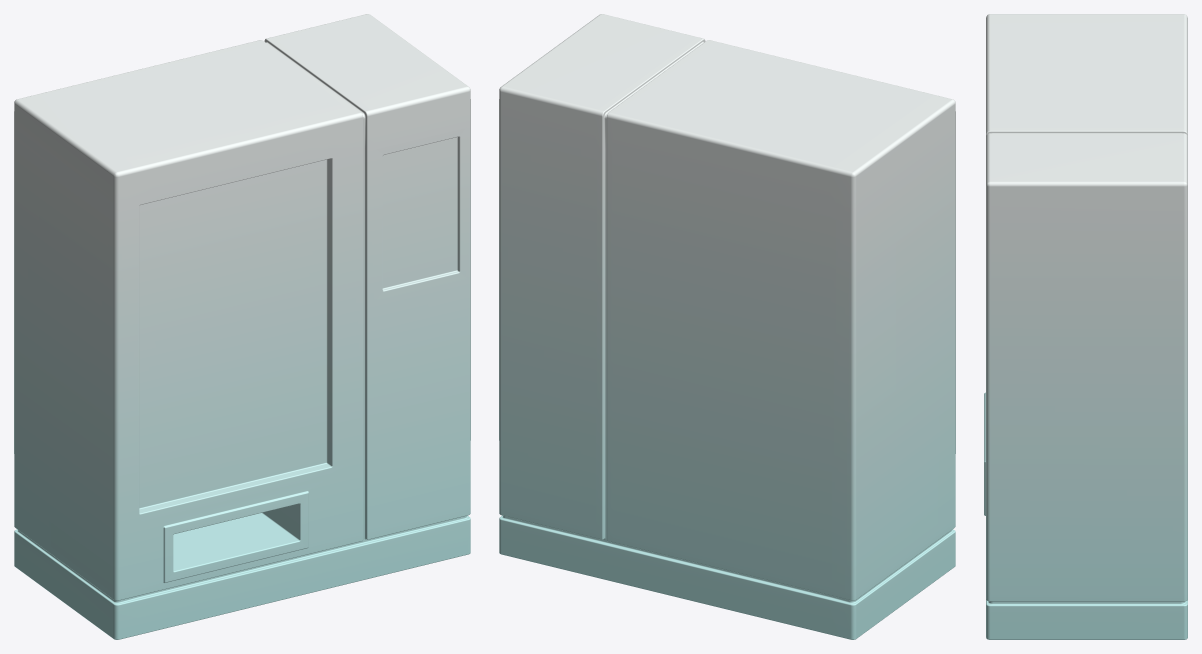
The model's file is VendingMachine 1.fbx.
3 views of the same model, side by side, from view 1: azimuth 30°, elevation 25°; view 2: azimuth 150°, elevation 25°; view 3: azimuth 270°, elevation 25° (orthographic). The views are drawn at different scales.
Parts seen in each view (by area): view 1: Cube; view 2: Cube; view 3: Cube.
Boxes of the visible parts, x1,y1,x2,y2 form: Cube: (14, 14, 470, 639); Cube: (499, 14, 955, 639); Cube: (984, 14, 1187, 639).
Size of the model in its own units: 200 by 250 by 101.
Materials: 1 (1 with a texture image).
